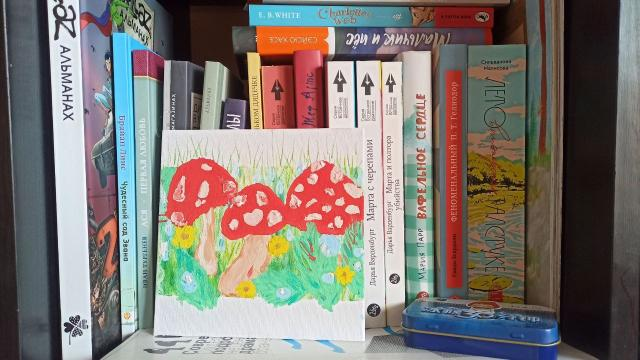book-s-spine: (468, 44, 526, 326), (47, 0, 92, 360), (403, 51, 435, 326), (356, 60, 386, 328), (440, 44, 468, 326), (232, 26, 493, 55), (160, 60, 187, 328), (113, 32, 135, 341), (381, 61, 405, 326), (133, 50, 153, 329), (249, 5, 494, 27)
